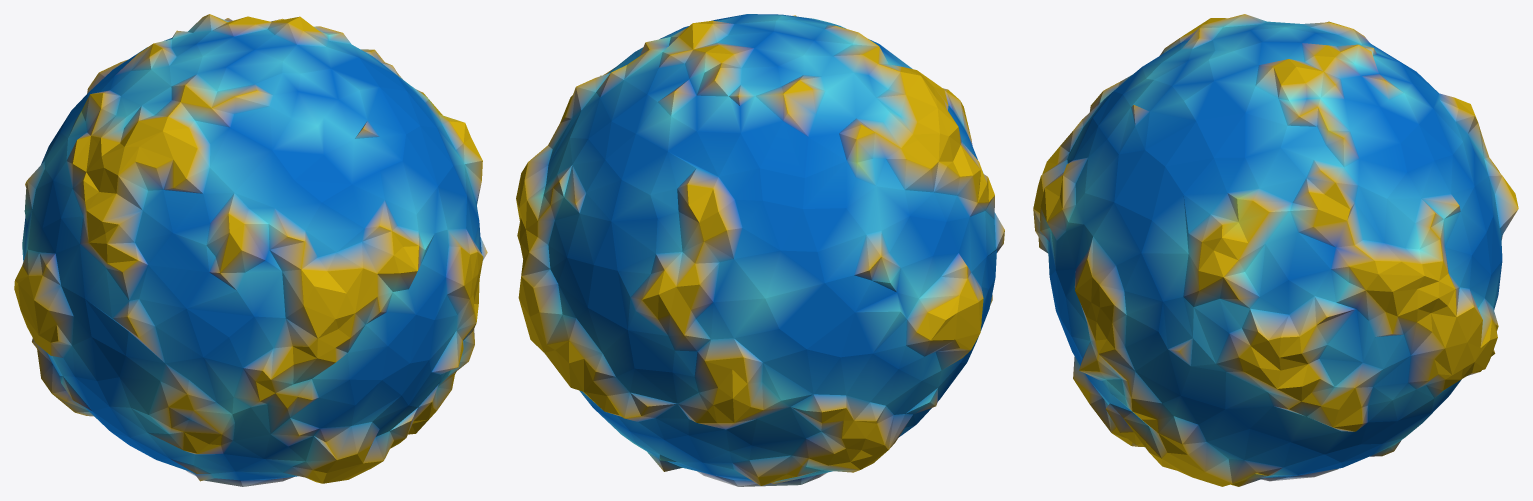
File: planet_65.fbx
3 views of the same model, side by side, from view 1: azimuth 30°, elevation 25°; view 2: azimuth 150°, elevation 25°; view 3: azimuth 270°, elevation 25° (orthographic). The views are drawn at different scales.
Parts seen in each view (by area): view 1: file1; view 2: file1; view 3: file1.
Part boxes in pixels (x1,y1,x2,y2): file1: (14,14,487,486); file1: (516,14,1004,486); file1: (1033,14,1518,486).
Bounding box in the file's own units: 2.17 × 2.06 × 2.14.
